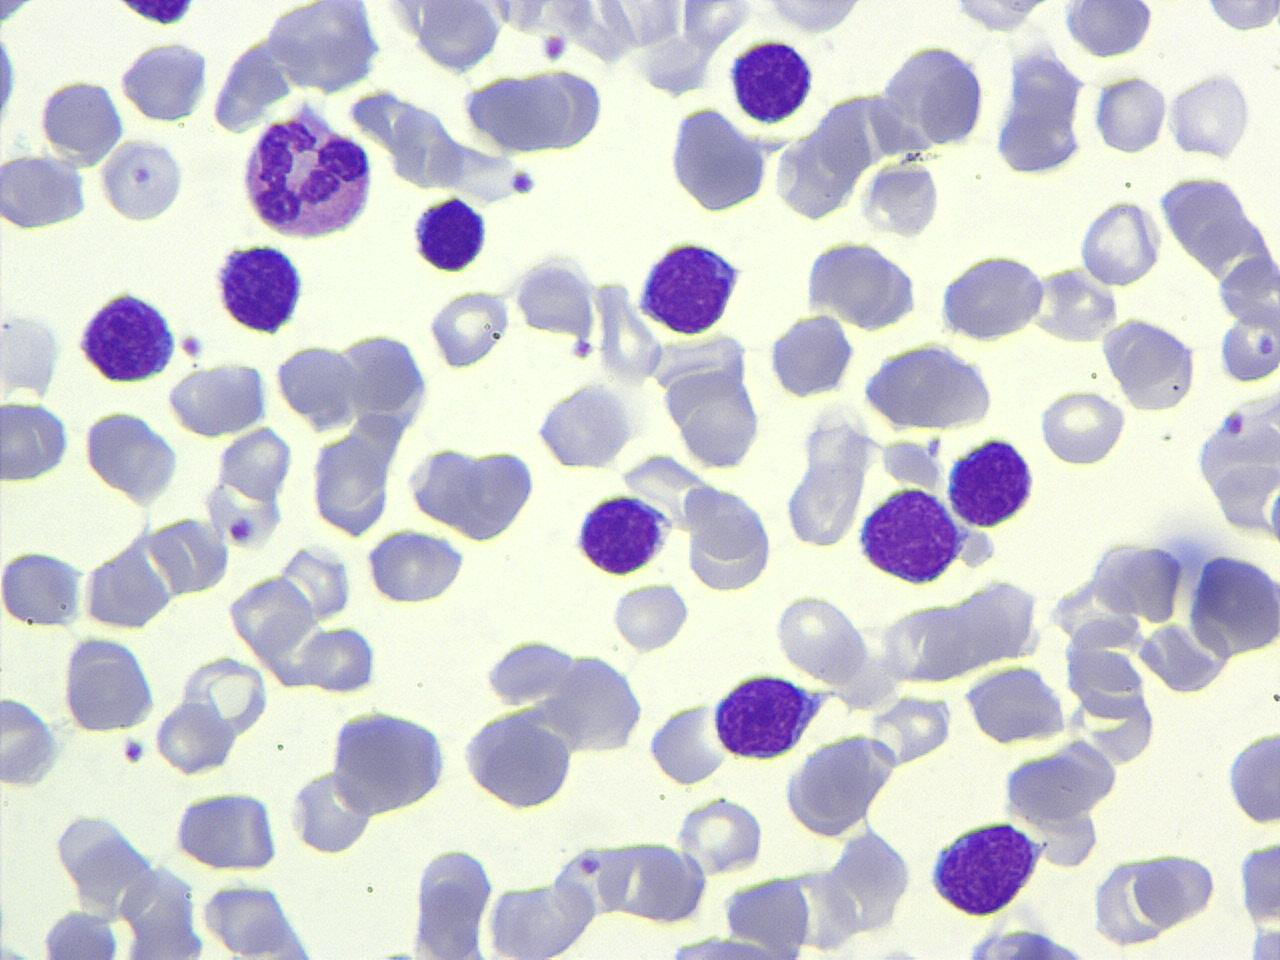Platelets: (165, 358, 270, 436), (1166, 70, 1254, 162), (408, 194, 492, 274), (1224, 725, 1280, 829), (303, 626, 381, 692), (1216, 306, 1280, 385), (0, 25, 20, 129), (1247, 924, 1279, 960), (229, 513, 259, 547), (540, 30, 569, 65), (875, 940, 921, 960), (508, 169, 538, 197), (177, 332, 207, 359), (121, 736, 147, 766), (374, 944, 419, 960), (1224, 408, 1246, 436), (0, 940, 29, 960)
RBC: (151, 652, 271, 774), (874, 40, 990, 150), (924, 816, 1039, 923), (457, 71, 589, 159), (263, 0, 382, 97), (682, 484, 776, 595), (1099, 314, 1203, 413), (663, 370, 764, 470), (60, 632, 159, 734), (80, 408, 181, 504), (172, 788, 284, 870), (199, 879, 310, 960), (772, 592, 868, 682), (310, 432, 391, 538), (364, 524, 466, 607), (163, 360, 270, 438), (1075, 196, 1165, 288), (117, 37, 211, 125), (764, 312, 856, 400), (1167, 68, 1253, 162), (37, 76, 126, 165), (782, 456, 866, 550), (98, 136, 186, 225), (226, 570, 314, 658), (644, 699, 730, 789), (672, 794, 766, 876), (1037, 386, 1129, 467), (274, 340, 354, 432), (427, 287, 509, 370), (0, 548, 85, 628), (148, 512, 230, 594), (1132, 848, 1216, 928), (153, 696, 236, 776), (1092, 70, 1168, 157), (1, 396, 74, 482), (218, 423, 295, 501), (609, 579, 691, 652), (0, 694, 63, 788), (0, 308, 66, 397), (1061, 0, 1155, 60), (302, 624, 379, 694), (1237, 832, 1280, 951), (1217, 254, 1279, 334), (36, 906, 124, 958), (757, 0, 870, 38), (944, 0, 1060, 36), (1200, 0, 1280, 34)
WBC: (237, 99, 378, 243), (1195, 372, 1280, 552), (326, 704, 452, 816), (859, 338, 997, 436), (782, 728, 908, 834), (408, 445, 540, 546), (854, 484, 982, 586), (458, 706, 580, 812), (876, 40, 990, 152), (924, 818, 1044, 920), (634, 235, 750, 340), (666, 103, 770, 215), (461, 69, 593, 157), (265, 1, 385, 96), (708, 669, 829, 763), (804, 235, 924, 329), (936, 248, 1049, 345), (193, 880, 330, 960), (75, 286, 180, 387), (686, 478, 778, 593), (59, 633, 161, 734), (1100, 314, 1202, 414), (532, 378, 638, 472), (81, 408, 182, 504), (383, 0, 514, 73), (212, 239, 309, 337), (173, 786, 284, 871), (570, 491, 674, 580), (944, 434, 1038, 530), (961, 663, 1068, 747), (365, 527, 471, 609), (726, 35, 819, 128), (167, 359, 273, 440), (119, 35, 209, 127), (765, 312, 857, 401), (39, 76, 123, 166), (646, 699, 730, 788), (1, 152, 91, 232), (1134, 848, 1218, 930), (410, 190, 489, 276), (0, 693, 64, 791), (945, 924, 1107, 960), (1224, 724, 1280, 828), (1059, 1, 1153, 60), (749, 0, 875, 39), (106, 0, 204, 30)
